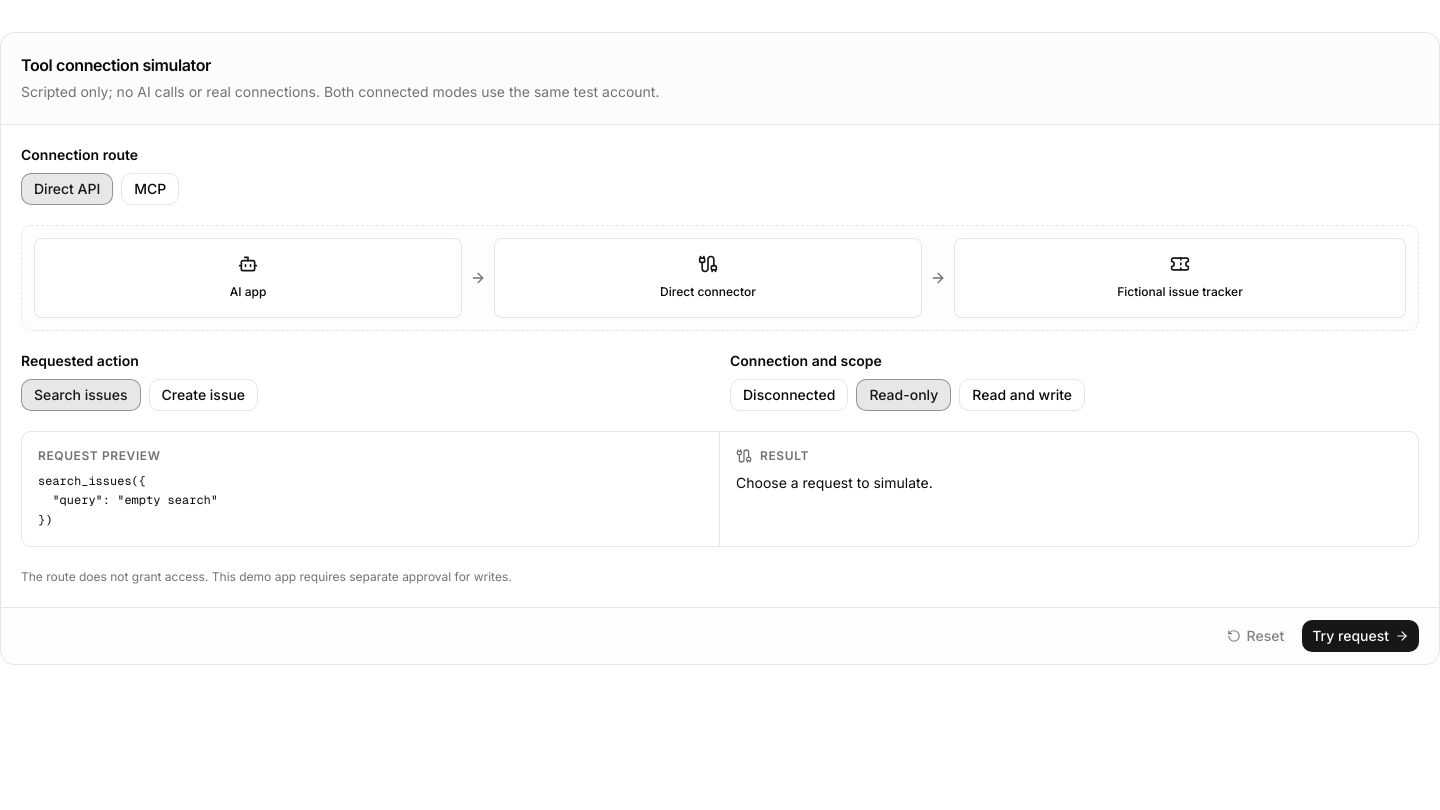
ToolsDemo › does not imply a connection is created by selecting Direct API
Click the button "Disconnected" at [789, 395], box [730, 379, 848, 411]
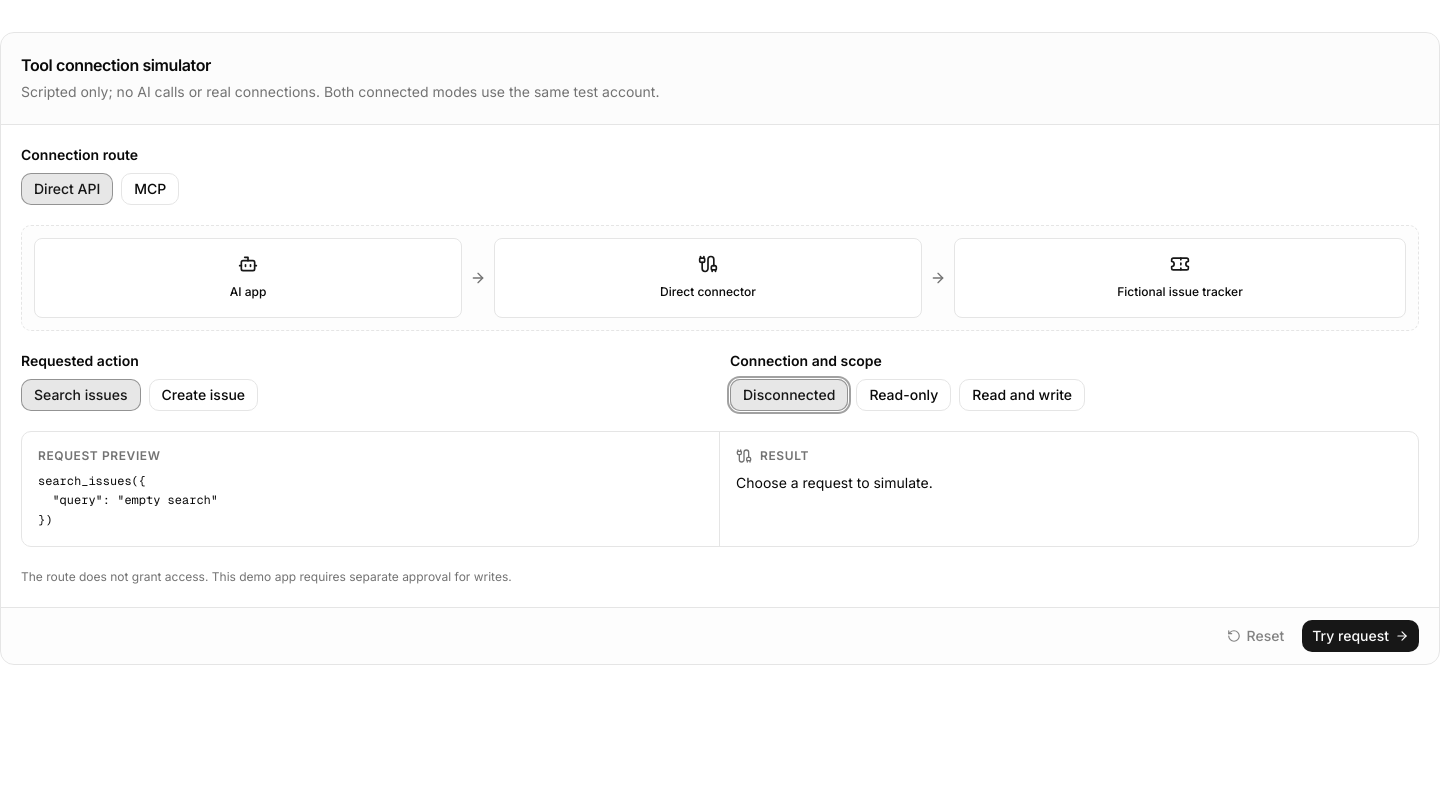
Click the button "Direct API" at [67, 189], box [21, 173, 113, 205]
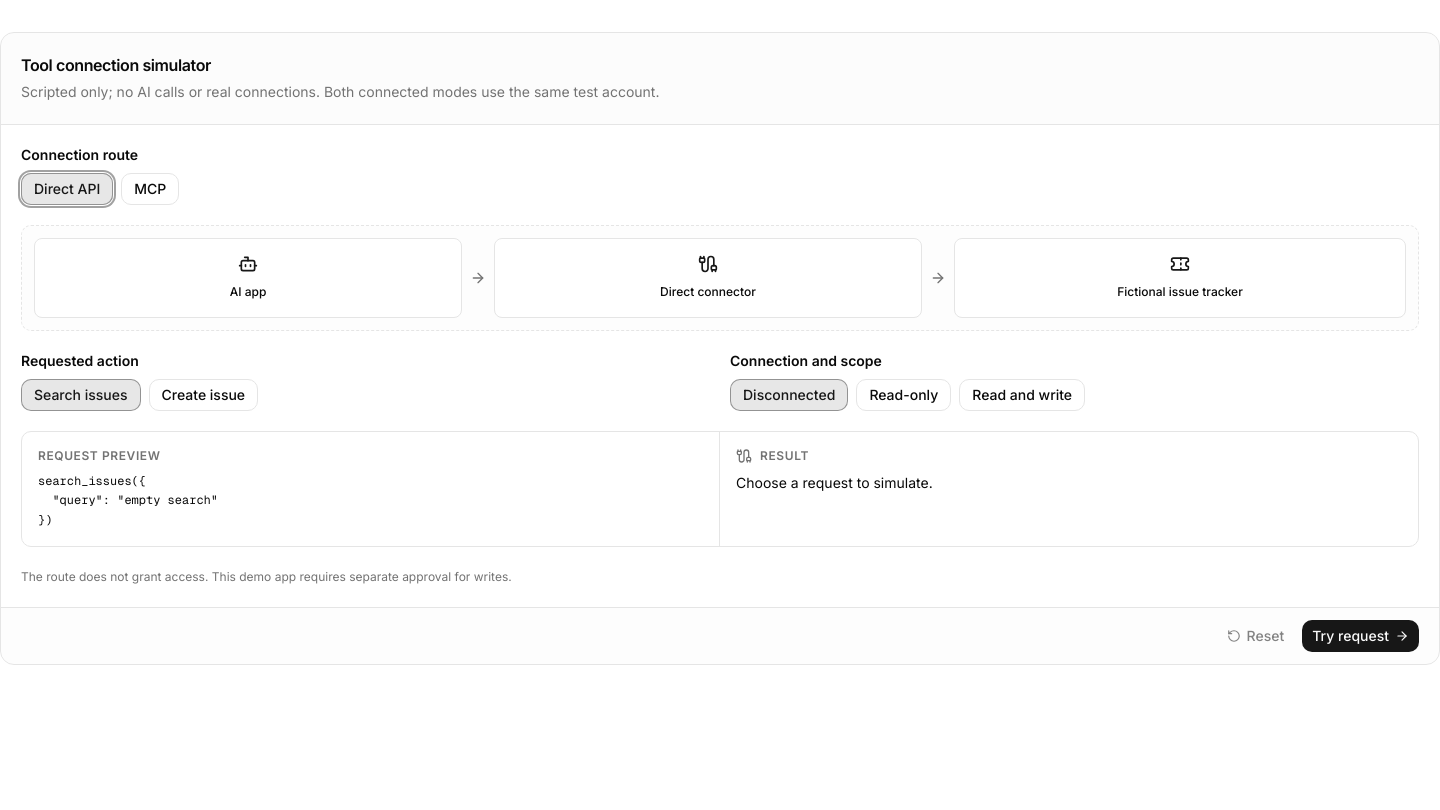
Click the button "Try request" at [1361, 636], box [1302, 620, 1419, 652]
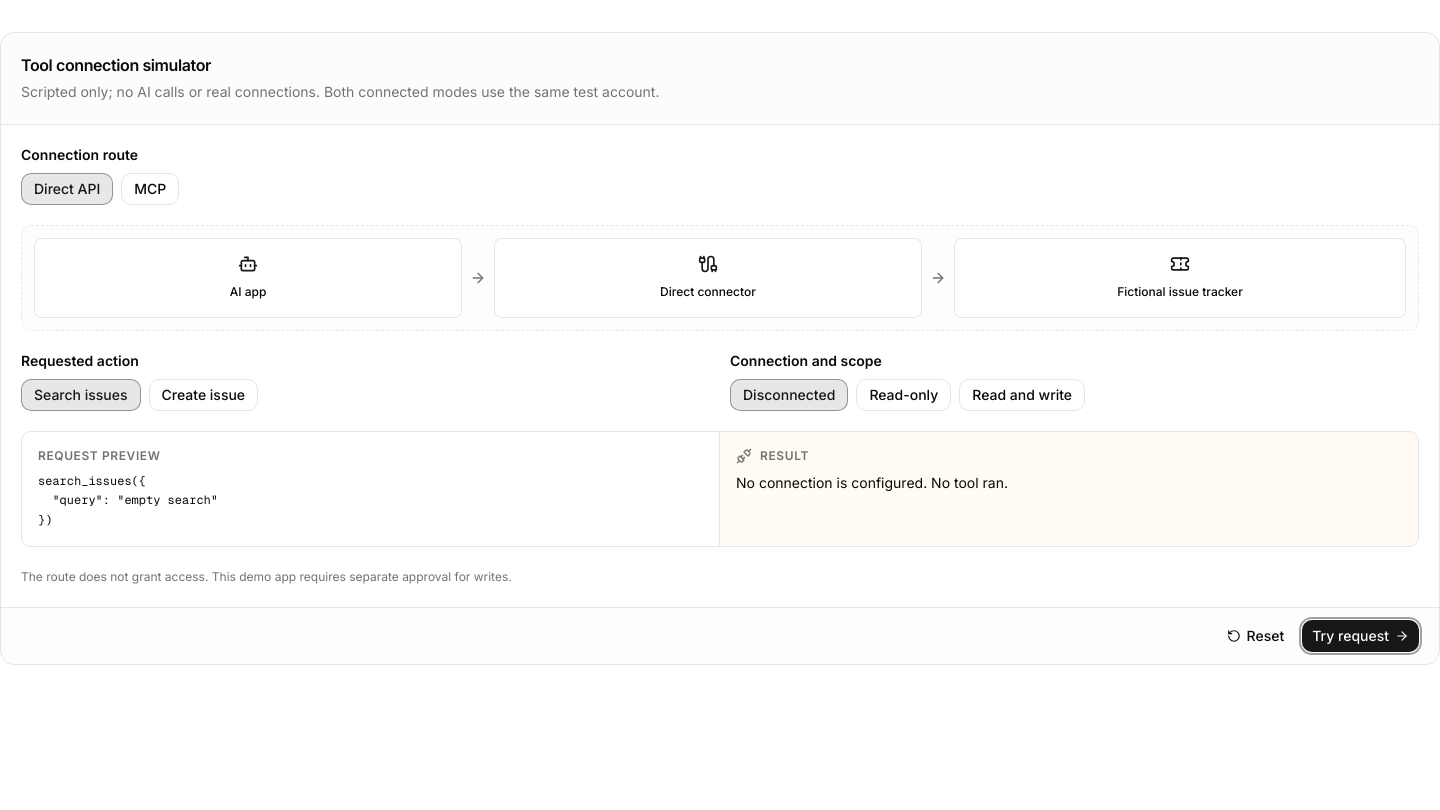
Expected: the message reads "No connection is configured. No tool ran.", [736, 474, 1008, 491]
